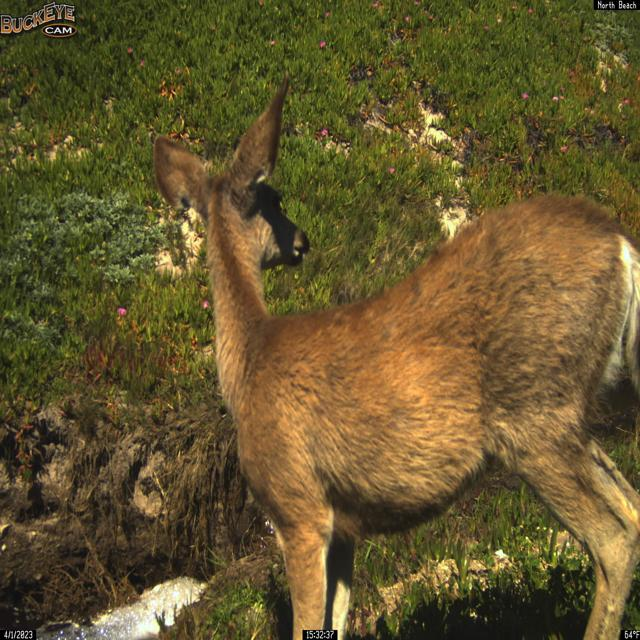deer: (152, 68, 639, 640)
